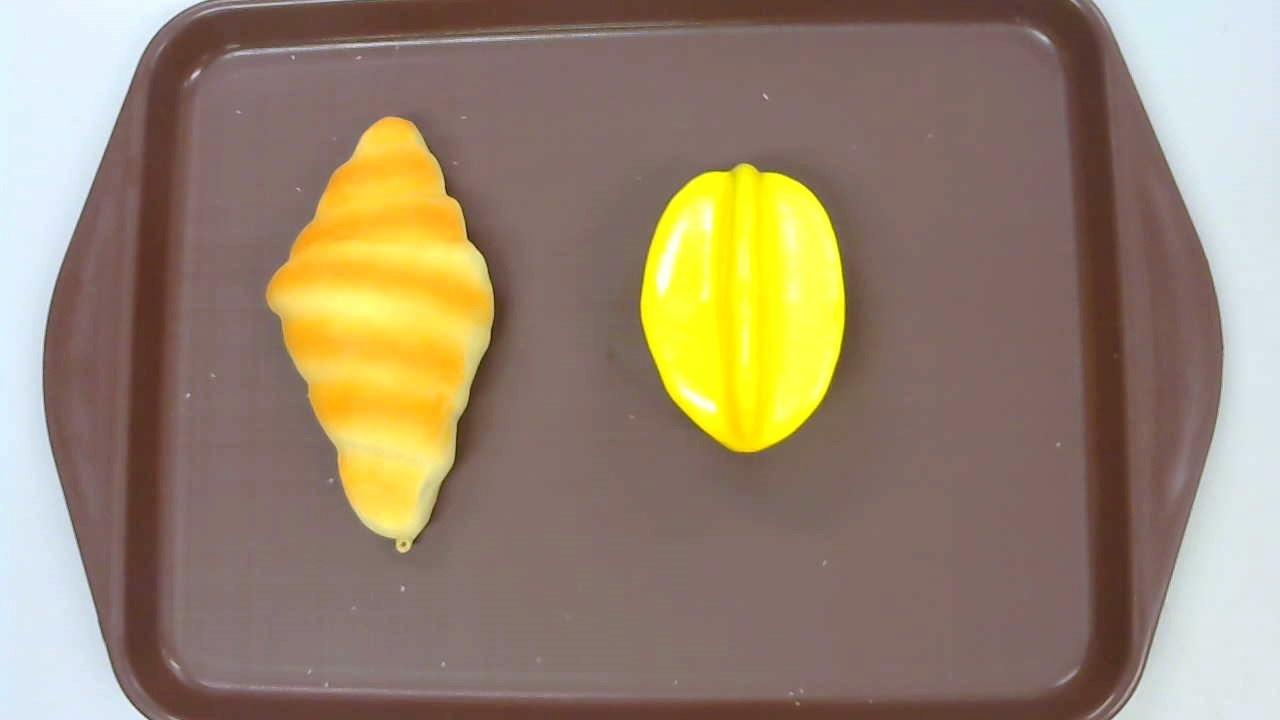croissant: (266, 116, 494, 553)
star fruit: (640, 162, 845, 455)
